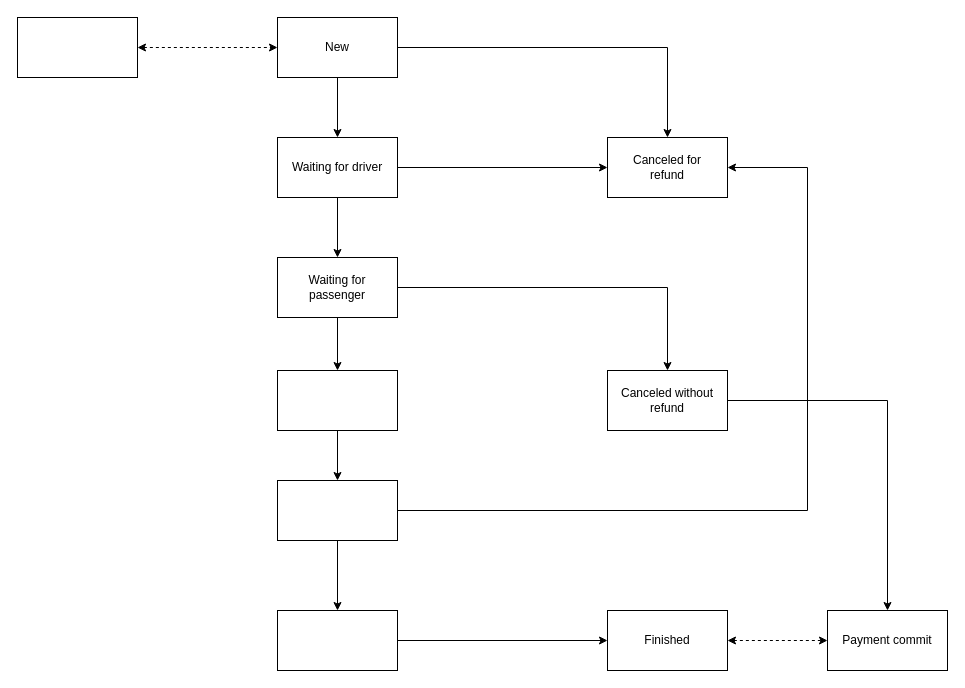
Image size: 965x688. Some labels were removed from this diagram. The shapes that lost their labels are listed below. From the top down, each one's centre as x and y in pixels, then its label:
the point at 77,47: Payment on hold
the point at 337,400: Passenger gets into the car
the point at 337,510: In route
the point at 337,640: Arrived at destination
